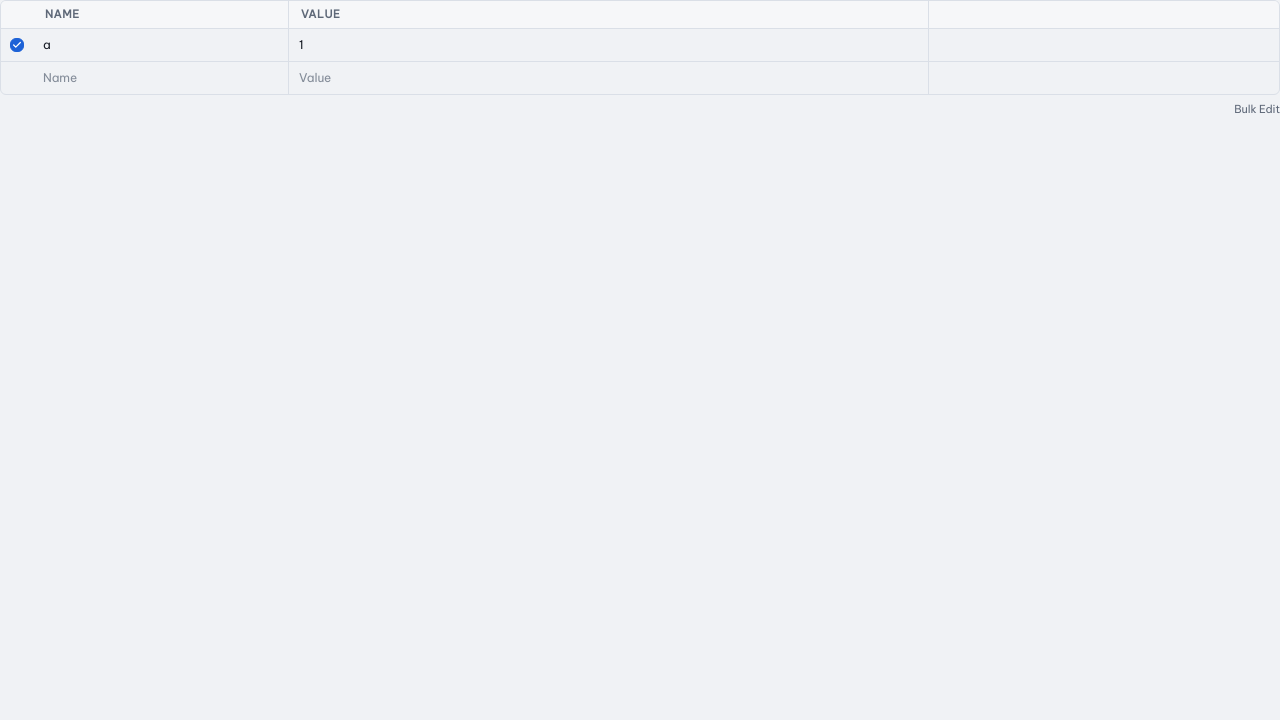
Test: KeyValueEditor — bulk edit › explains the line format instead of leaving it to be guessed
Click the button "Bulk Edit".
click(1257, 109)  # box [1234,101,1279,117]
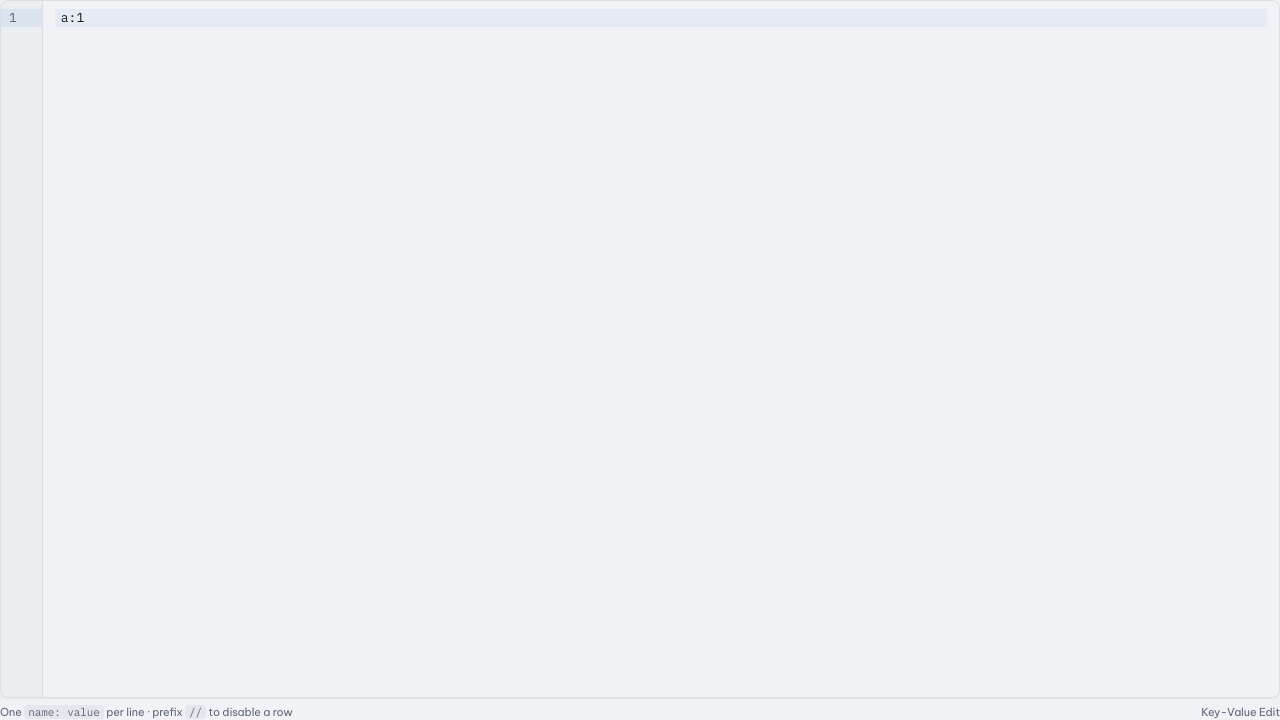
Check: the text "//" is shown, box [185,704,206,718]
